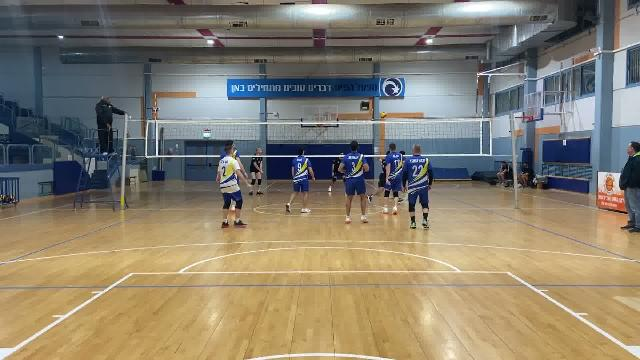ball: (377, 110, 391, 118)
